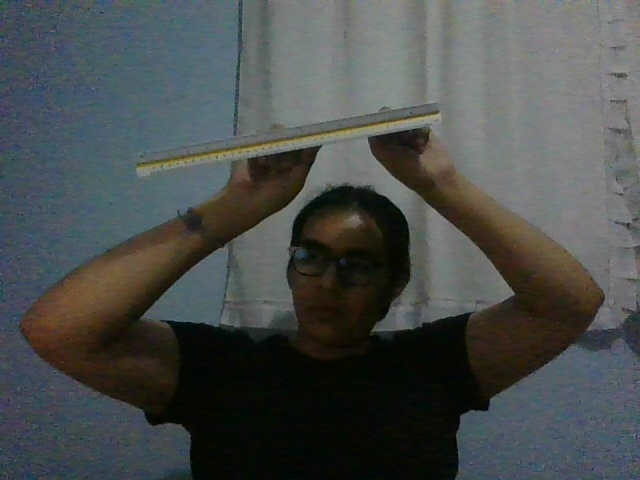regla: (133, 102, 441, 179)
